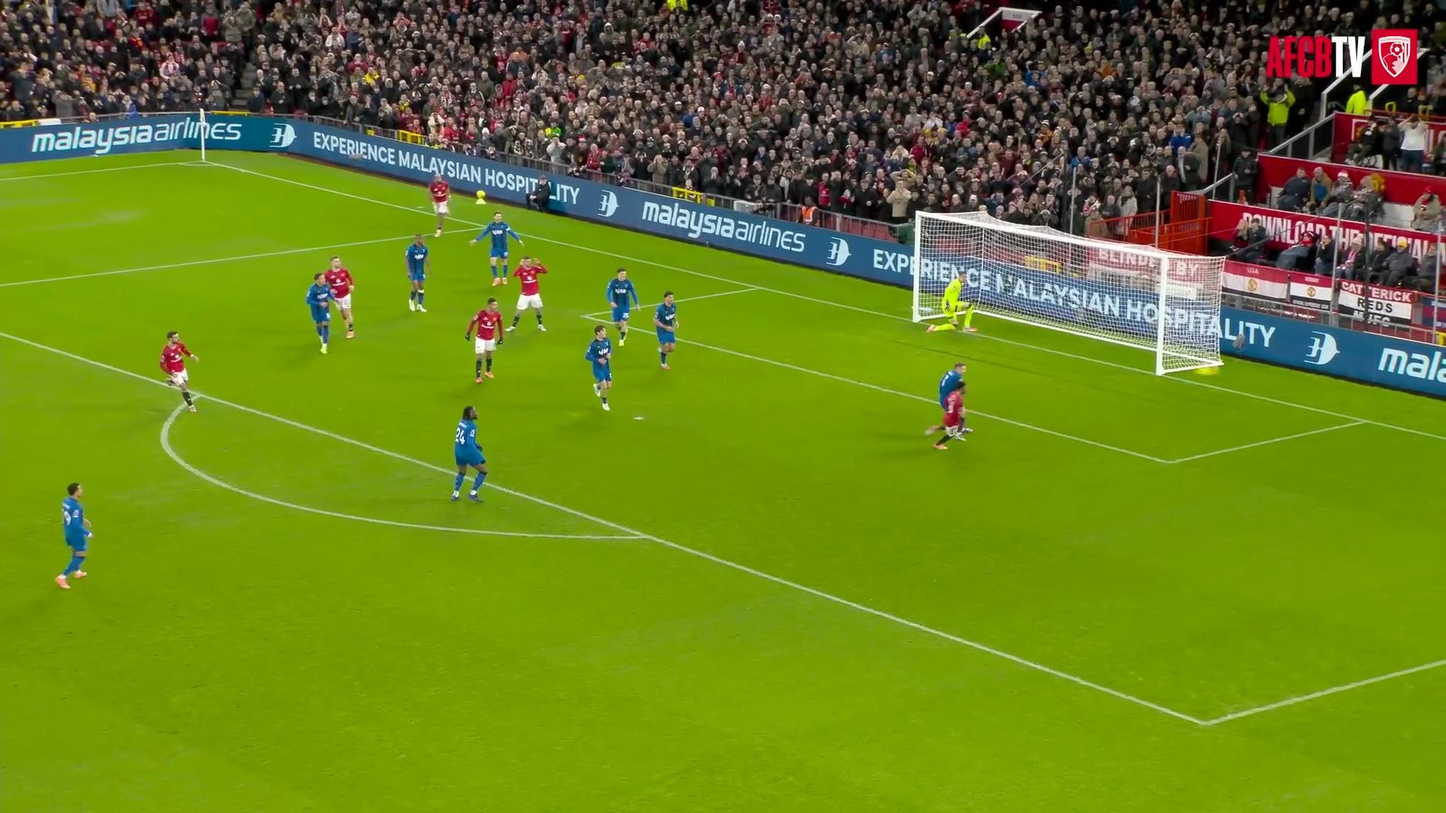football: (1197, 363, 1221, 381)
player: (54, 483, 92, 589), (469, 212, 524, 285), (451, 406, 487, 502), (926, 379, 971, 449), (506, 255, 547, 331), (160, 331, 198, 412), (466, 298, 502, 383), (927, 271, 976, 332), (606, 267, 639, 346), (325, 255, 354, 338), (584, 325, 612, 410), (306, 273, 333, 354), (405, 234, 429, 312), (654, 291, 676, 368), (428, 174, 449, 236), (939, 361, 966, 407)
